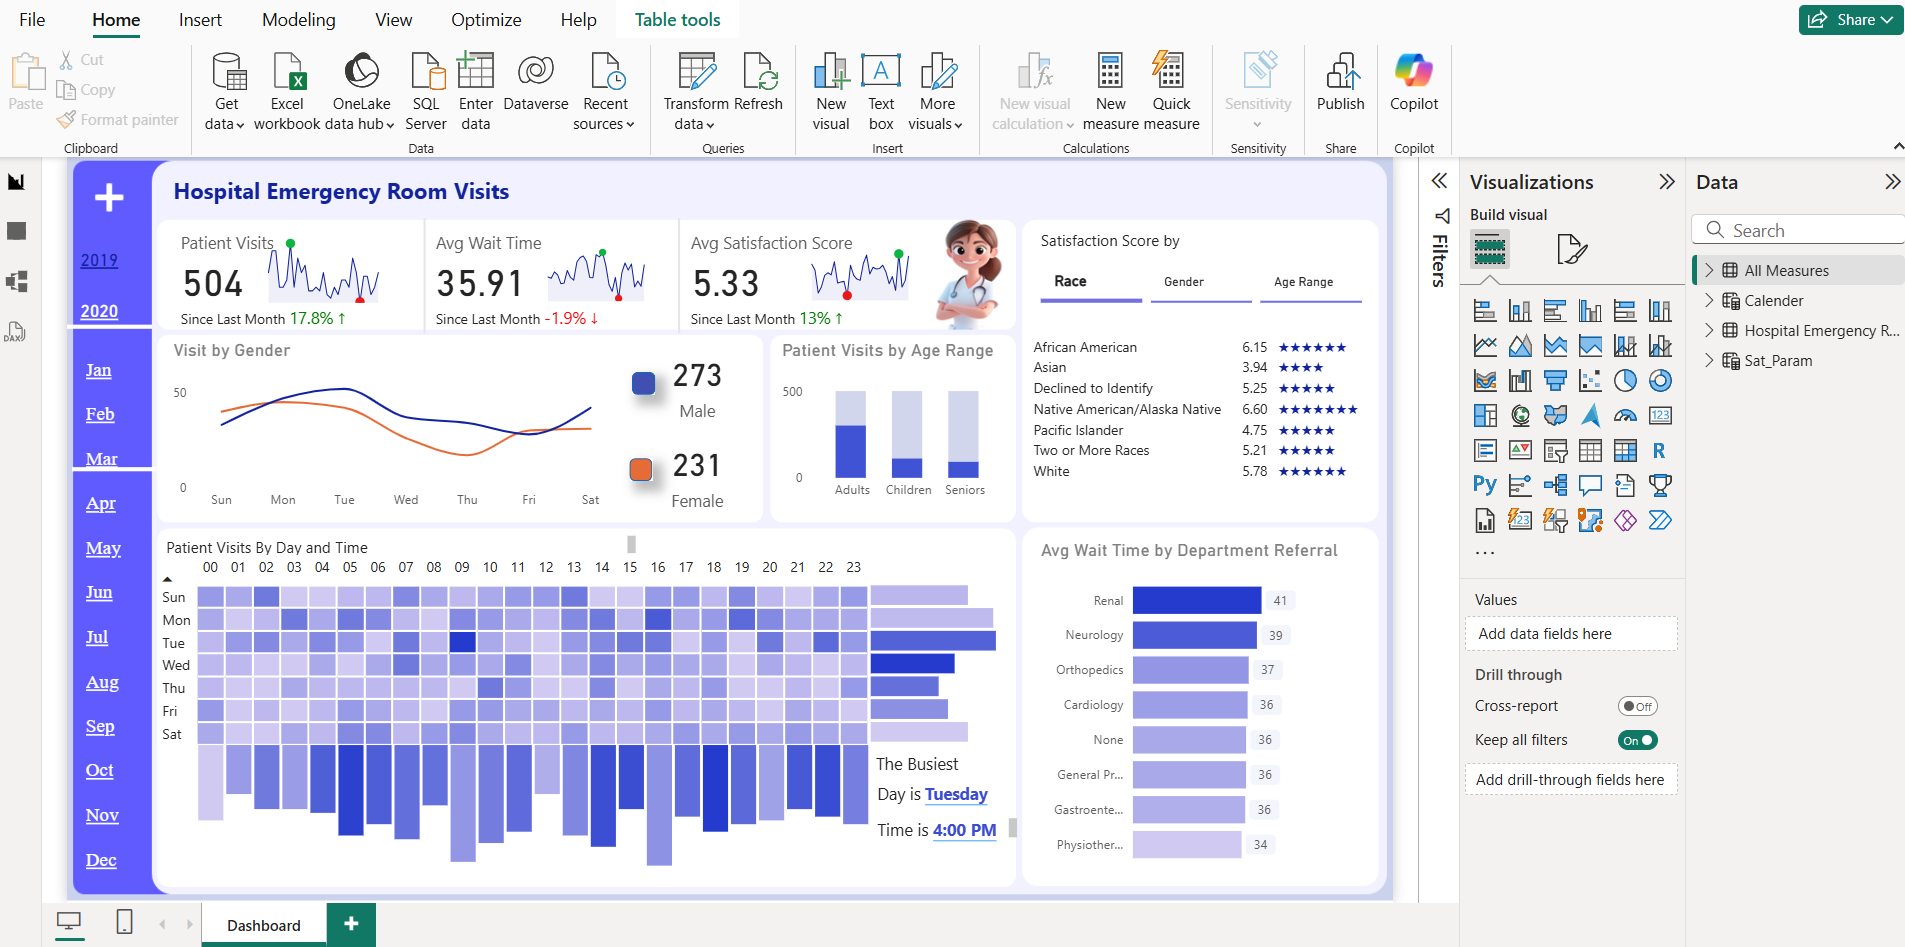

Layout of this report page (visuals, bound fields, positions):
{"tool":"powerbi","page":{"name":"Dashboard","canvas":[1280,720],"ordinal":0},"visuals":[{"type":"advancedSlicerVisual","fields":{"Values":["Calender.Year"]},"box":[0,75.9,82.5,90.5],"z":0},{"type":"advancedSlicerVisual","fields":{"Values":["Calender.Month"]},"box":[0,175.7,93.2,520.4],"z":1000},{"type":"cardVisual","fields":{"Data":["All Measures.Patient Visits","All Measures.Avg Wait Time","All Measures.Avg satisfaction Score"]},"box":[93.2,54.4,741.2,121.2],"z":2000},{"type":"areaChart","fields":{"Y":["All Measures.Patient Visits","All Measures.Patient Visits Max Value","All Measures.Patient Visits Min Value"],"Category":["Calender.Day"]},"box":[176.1,55.5,171.3,90.5],"z":3000},{"type":"areaChart","fields":{"Category":["Calender.Day"],"Y":["All Measures.Avg Wait Time","All Measures.Avg Wait Time Max Value","All Measures.Avg Wait Time Min Value"]},"box":[445.9,76.1,153.8,68.4],"z":4000},{"type":"areaChart","fields":{"Category":["Calender.Day"],"Y":["All Measures.Avg Satisfaction Score","All Measures.Avg Satisfaction Score Max Value","All Measures.Avg Satisfaction Score Min Value"]},"box":[700.9,76,154.4,68.8],"z":5000},{"type":"lineChart","title":"Visit by Gender","fields":{"Y":["All Measures.Patient Visits"],"Category":["Calender.Weekday"],"Series":["Hospital Emergency Room.Gender"]},"box":[97.2,175.7,436.5,173],"z":6000},{"type":"card","fields":{"Values":["All Measures.Patient Visits"]},"box":[551.5,175.8,114.5,87.1],"z":7000},{"type":"card","fields":{"Values":["All Measures.Patient Visits"]},"box":[551.5,262.8,114.5,87.1],"z":8000},{"type":"shape","box":[545,208,22.6,22],"z":9000},{"type":"shape","box":[543.4,290.3,22,22],"z":10000},{"type":"clusteredColumnChart","title":"Patient Visits by Age Range","fields":{"Y":["All Measures.Patient Visits","All Measures.Patient Visits Dummy"],"Category":["Hospital Emergency Room.Age Range"]},"box":[685.4,175.7,224.9,163.7],"z":11000},{"type":"tableEx","fields":{"Values":["Hospital Emergency Room.Race","All Measures.Avg Satisfaction Score","All Measures.Score Rating"]},"box":[921.7,137.5,358.3,202.7],"z":12000},{"type":"advancedSlicerVisual","fields":{"Values":["Sat_Param.Sat_Param"]},"box":[935.2,92.4,322,53.9],"z":13000},{"type":"clusteredBarChart","fields":{"Y":["All Measures.Avg Wait Time"],"Category":["Hospital Emergency Room.Department Referral"]},"box":[935,369.2,322.1,326.9],"z":14000},{"type":"pivotTable","fields":{"Rows":["Calender.Weekday"],"Columns":["Hospital Emergency Room.Hour"],"Values":["All Measures.Patient Visits"]},"box":[82.1,379.7,706.8,198.8],"z":15000},{"type":"clusteredBarChart","fields":{"Category":["Calender.Weekday"],"Y":["All Measures.Patient Visits"]},"box":[771,400.2,138.5,169.3],"z":16000},{"type":"clusteredColumnChart","fields":{"Y":["All Measures.Patient Visits"],"Category":["Hospital Emergency Room.Hour"]},"box":[121.9,554.2,656.8,165.5],"z":17000},{"type":"textbox","box":[776.1,569.6,151.4,39.8],"z":18000},{"type":"textbox","box":[777.4,597.8,148.8,35.9],"z":19000},{"type":"textbox","box":[777.4,633.7,145,37.2],"z":20000},{"type":"textbox","box":[91.1,360.5,463.1,28.2],"z":21000},{"type":"textbox","box":[935.2,65.4,211.7,35.9],"z":22000},{"type":"textbox","box":[97.5,11.5,1168.7,42.3],"z":23000},{"type":"image","box":[0,0,82.1,75.7],"z":24000}]}

Visuals, with their boxes on the page's 1280x720 design canvas (x1, y1, x2, y2). These are canvas units, not pixel positions in the 1905x947 screenshot, which may show the page scaled, cropped or inside an application window:
advancedSlicerVisual - Calender.Year: crop(0, 76, 82, 166)
advancedSlicerVisual - Calender.Month: crop(0, 176, 93, 696)
cardVisual - All Measures.Patient Visits x All Measures.Avg Wait Time: crop(93, 54, 834, 176)
areaChart - All Measures.Patient Visits x All Measures.Patient Visits Max Value: crop(176, 56, 347, 146)
areaChart - Calender.Day x All Measures.Avg Wait Time: crop(446, 76, 600, 144)
areaChart - Calender.Day x All Measures.Avg Satisfaction Score: crop(701, 76, 855, 145)
"Visit by Gender" lineChart: crop(97, 176, 534, 349)
card - All Measures.Patient Visits: crop(552, 176, 666, 263)
card - All Measures.Patient Visits: crop(552, 263, 666, 350)
shape: crop(545, 208, 568, 230)
shape: crop(543, 290, 565, 312)
"Patient Visits by Age Range" clusteredColumnChart: crop(685, 176, 910, 339)
tableEx - Hospital Emergency Room.Race x All Measures.Avg Satisfaction Score: crop(922, 138, 1280, 340)
advancedSlicerVisual - Sat_Param.Sat_Param: crop(935, 92, 1257, 146)
clusteredBarChart - All Measures.Avg Wait Time x Hospital Emergency Room.Department Referral: crop(935, 369, 1257, 696)
pivotTable - Calender.Weekday x Hospital Emergency Room.Hour: crop(82, 380, 789, 578)
clusteredBarChart - Calender.Weekday x All Measures.Patient Visits: crop(771, 400, 910, 570)
clusteredColumnChart - All Measures.Patient Visits x Hospital Emergency Room.Hour: crop(122, 554, 779, 720)
textbox: crop(776, 570, 928, 609)
textbox: crop(777, 598, 926, 634)
textbox: crop(777, 634, 922, 671)
textbox: crop(91, 360, 554, 389)
textbox: crop(935, 65, 1147, 101)
textbox: crop(98, 12, 1266, 54)
image: crop(0, 0, 82, 76)
